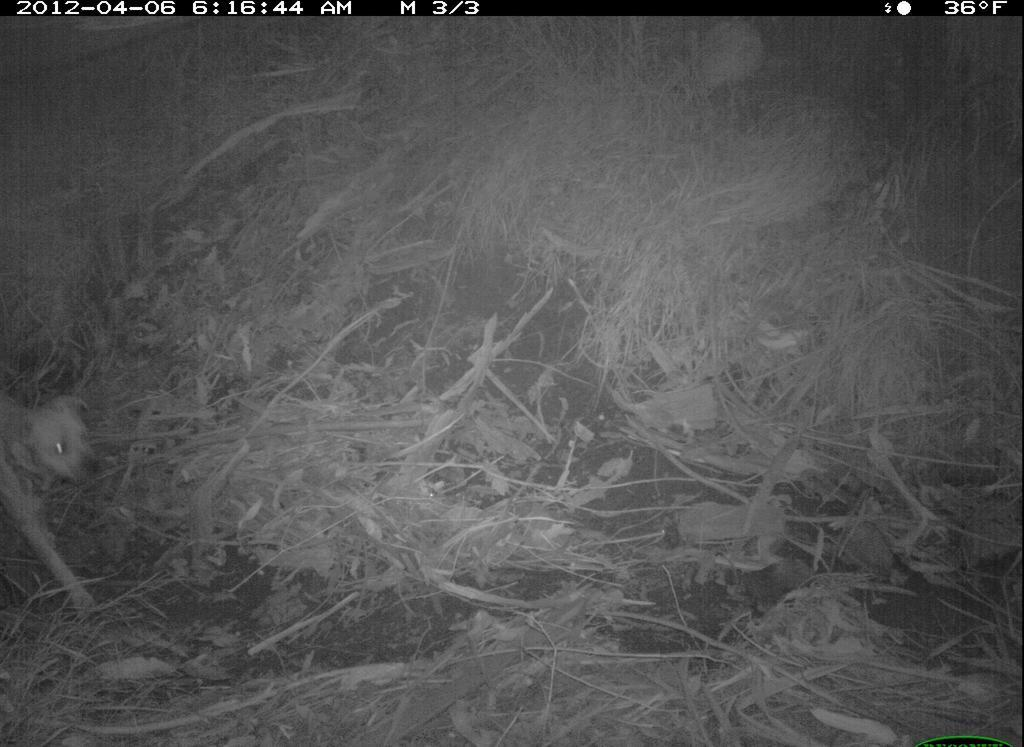dog: (2, 393, 117, 611)
